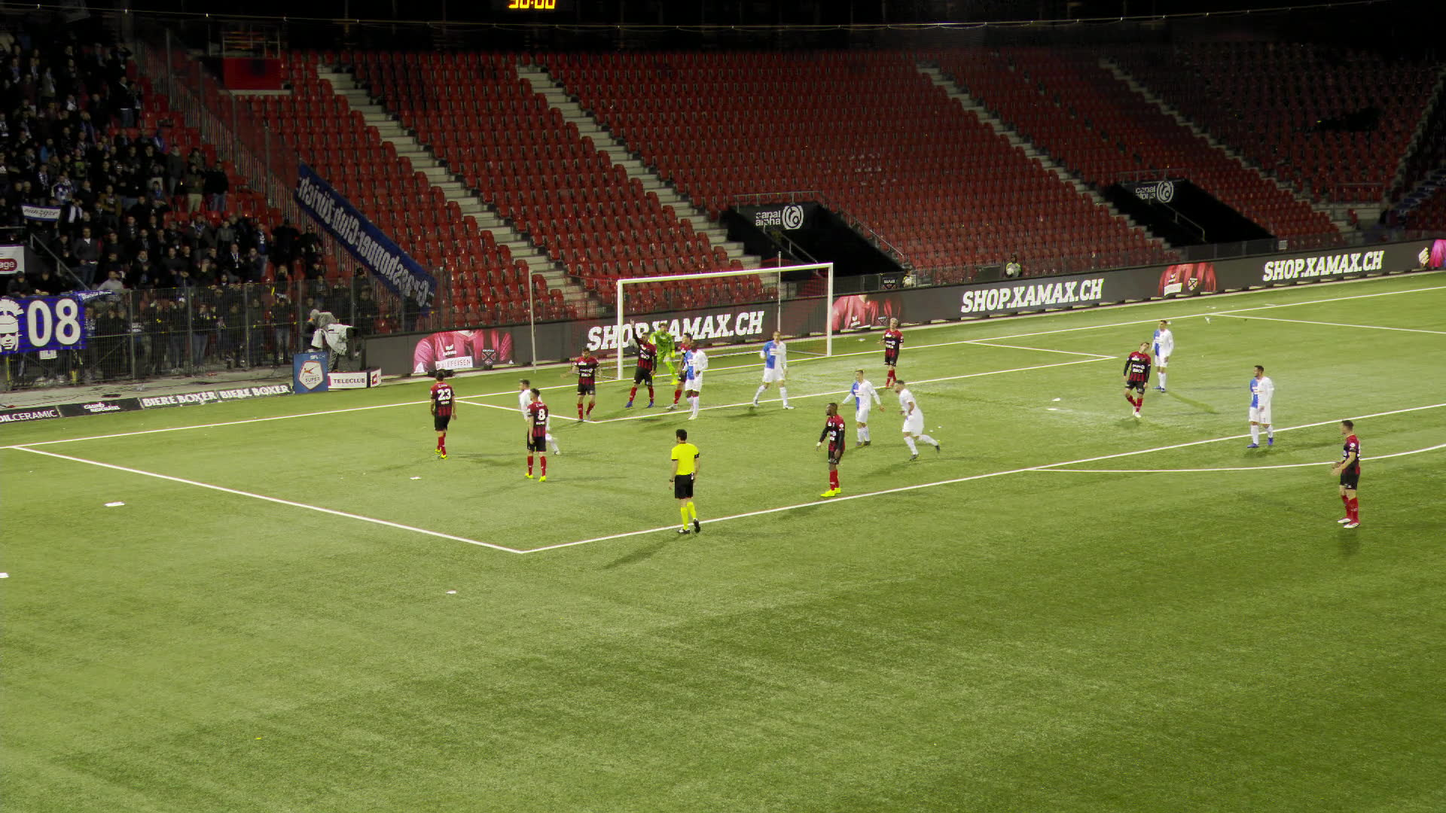player: (514, 378, 569, 457), (1330, 420, 1362, 530), (892, 381, 932, 460), (625, 318, 657, 408), (753, 329, 789, 409), (815, 402, 845, 497), (842, 370, 878, 447), (1243, 363, 1274, 447), (570, 347, 603, 422), (428, 371, 456, 458), (522, 386, 547, 481), (1121, 340, 1150, 419), (679, 338, 706, 418), (667, 333, 694, 410), (648, 321, 676, 388), (877, 316, 903, 385), (1150, 318, 1173, 392)
referee: (667, 428, 700, 535)
